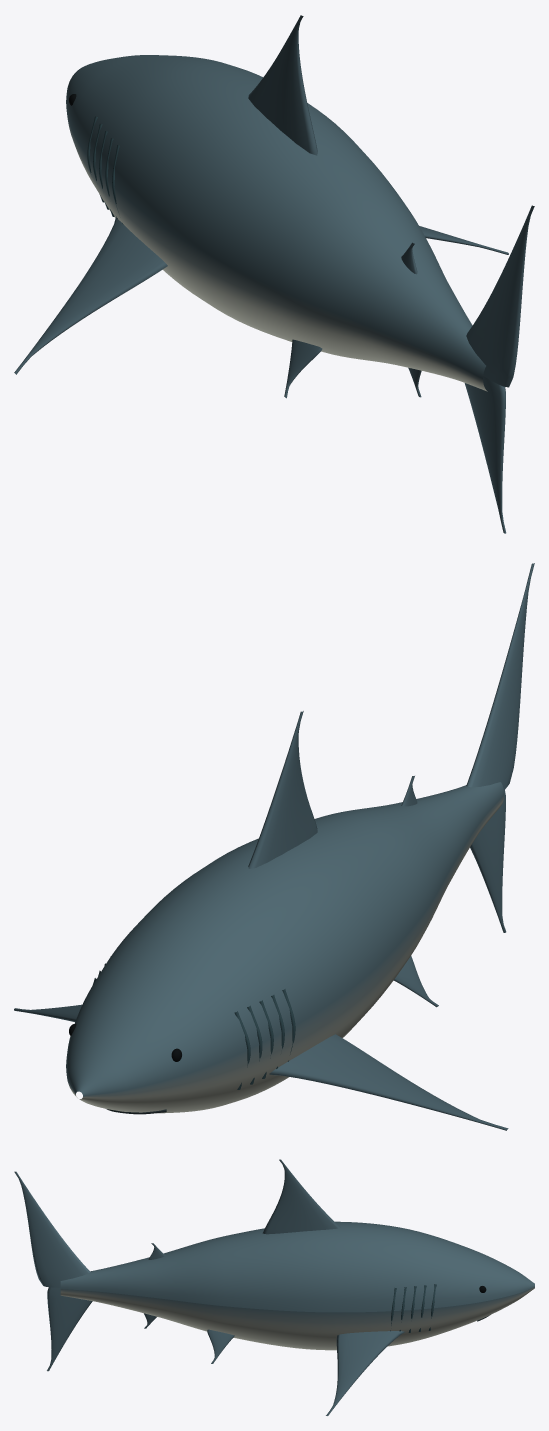
The model's file is shark.glb.
The picture shows the model from 3 angles, top to bottom: view 1: azimuth 30°, elevation 25°; view 2: azimuth 150°, elevation 25°; view 3: azimuth 270°, elevation 25°; orthographic projection. The views are drawn at different scales.
Parts seen in each view (by area): view 1: SharkBodyAssembly, SharkFinTailUpperAssembly, GillSlitAssembly; view 2: SharkBodyAssembly, SharkFinTailUpperAssembly, GillSlitAssembly; view 3: SharkBodyAssembly, SharkFinTailUpperAssembly, GillSlitAssembly.
Boxes of the visible parts, x1=… form: SharkBodyAssembly: x1=14, y1=15, x2=508, y2=398; SharkFinTailUpperAssembly: x1=464, y1=205, x2=534, y2=533; GillSlitAssembly: x1=87, y1=116, x2=123, y2=224; SharkBodyAssembly: x1=14, y1=711, x2=508, y2=1130; SharkFinTailUpperAssembly: x1=466, y1=563, x2=534, y2=932; GillSlitAssembly: x1=93, y1=956, x2=295, y2=1089; SharkBodyAssembly: x1=60, y1=1159, x2=534, y2=1415; SharkFinTailUpperAssembly: x1=14, y1=1171, x2=92, y2=1371; GillSlitAssembly: x1=390, y1=1284, x2=436, y2=1332.
Bounding box in the file's own units: 2.79 × 1.99 × 4.45.
